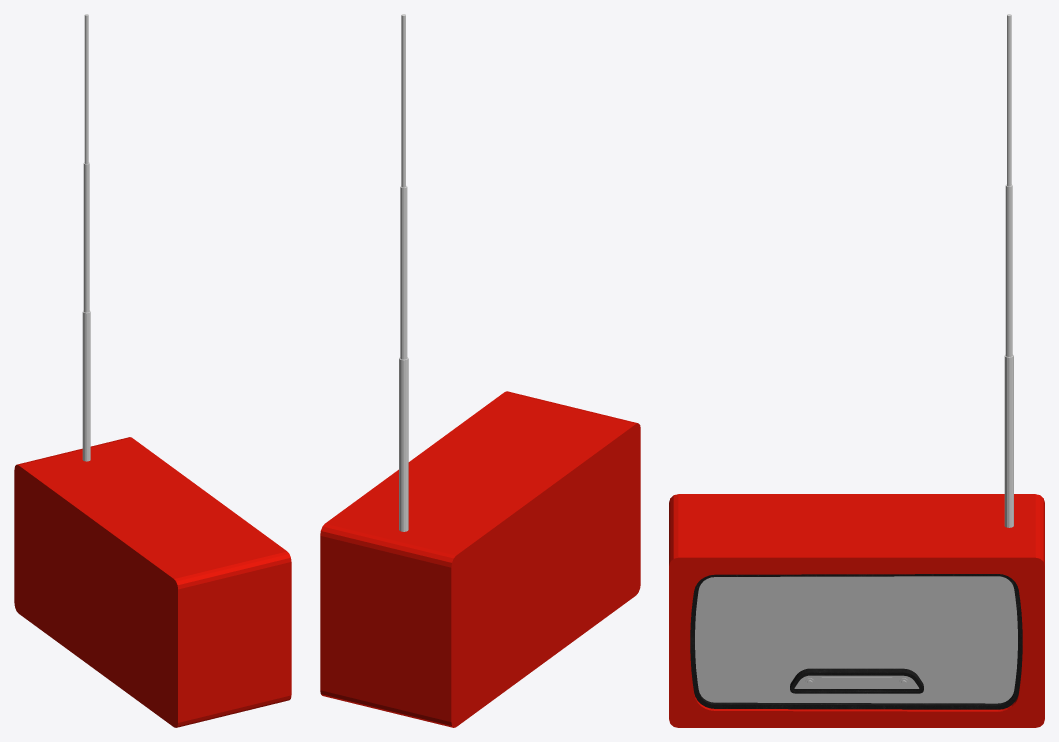
Rendered from radio.fbx.
3 renders of one model, left to right at view 1: azimuth 30°, elevation 25°; view 2: azimuth 150°, elevation 25°; view 3: azimuth 270°, elevation 25°, orthographic. The views are drawn at different scales.
Parts seen in each view (by area): view 1: Radio; view 2: Radio; view 3: Radio.
Boxes of the visible parts, x1,y1,x2,y2 form: Radio: [14, 14, 291, 727]; Radio: [320, 14, 640, 727]; Radio: [669, 14, 1044, 727].
Bounding box in the file's own units: 161 × 800 × 400.
